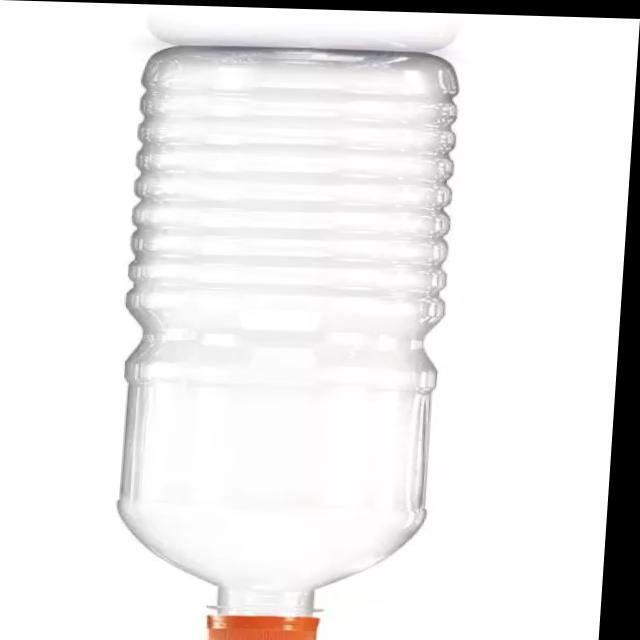bottle: (104, 39, 487, 640)
